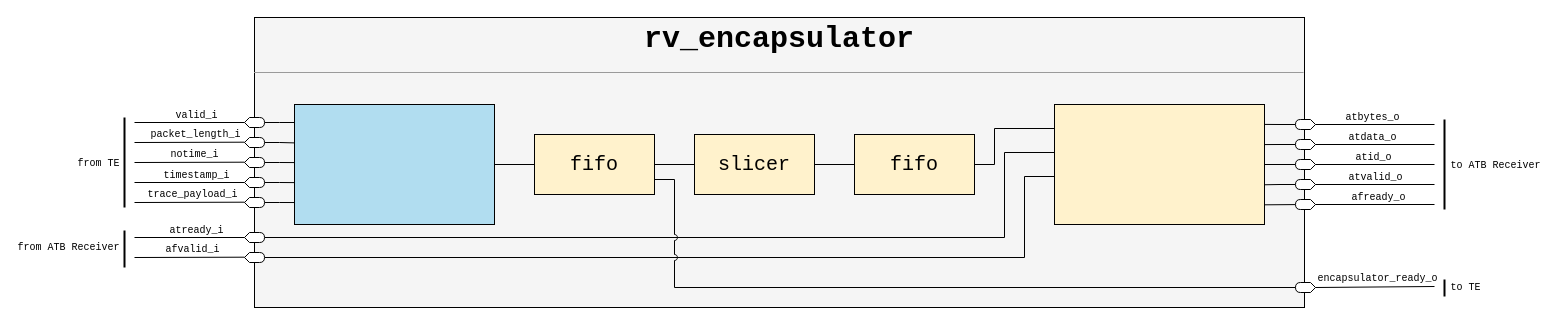
Some shapes in this 1557 by 325 pixel diagram are drawn without their labels. Here are the shapes that lost their labels. From the top down, the box of each, then its label:
(294, 104, 494, 224): encapsulator
(1054, 104, 1264, 224): atb_transmitter
